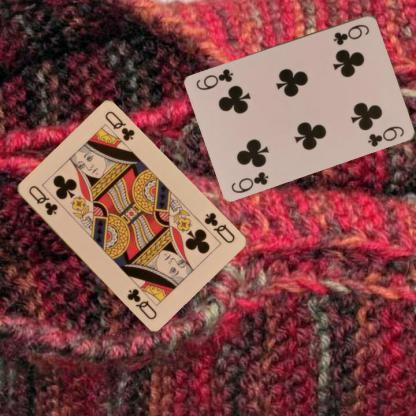6c: (228, 168, 271, 194), (330, 22, 370, 46)
Qc: (201, 209, 236, 244), (25, 182, 59, 216)
